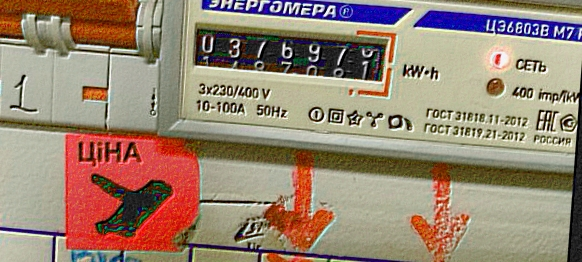0: (200, 31, 216, 54)
1: (359, 58, 370, 81)
3: (228, 36, 242, 58)
6: (280, 36, 296, 60)
7: (333, 41, 349, 65), (254, 35, 269, 59)
9: (306, 40, 322, 63)
screen: (181, 13, 400, 101)
